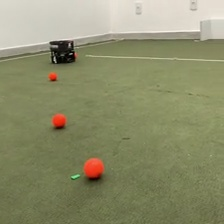ball: (82, 154, 105, 180), (51, 111, 67, 129), (47, 71, 57, 81)
goal: (197, 16, 224, 41)
robot: (48, 38, 77, 65)
